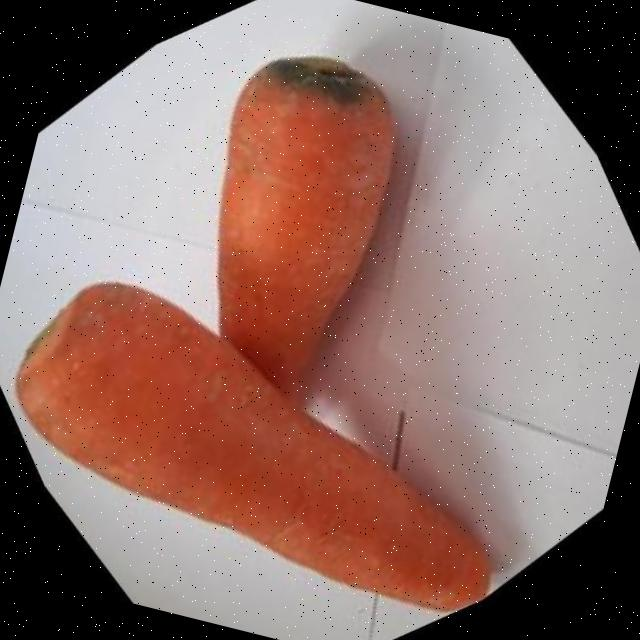carrot: (16, 283, 488, 611), (217, 56, 393, 398)
